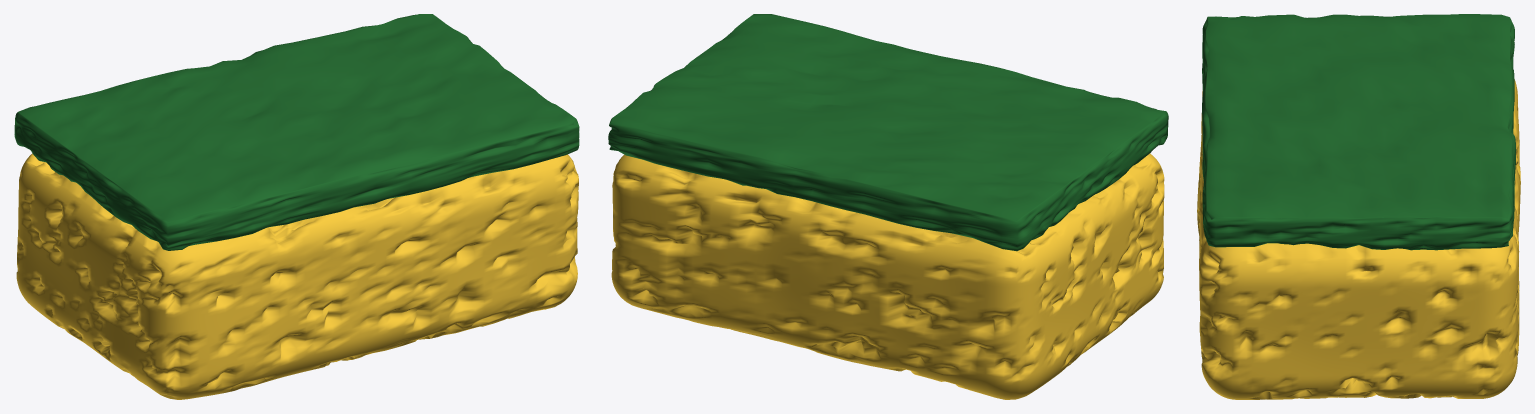
The model's file is sponge.fbx.
The picture shows the model from 3 angles, left to right: view 1: azimuth 30°, elevation 25°; view 2: azimuth 150°, elevation 25°; view 3: azimuth 270°, elevation 25°; orthographic projection.
Visible parts, largest first — view 1: SpongeBody, ScrubPad; view 2: SpongeBody, ScrubPad; view 3: ScrubPad, SpongeBody.
Boxes of the visible parts, bbox=[...] form: SpongeBody: bbox=[16, 153, 578, 399]; ScrubPad: bbox=[14, 14, 579, 250]; SpongeBody: bbox=[611, 153, 1164, 399]; ScrubPad: bbox=[608, 14, 1168, 251]; ScrubPad: bbox=[1202, 14, 1516, 250]; SpongeBody: bbox=[1197, 80, 1520, 399].
Size of the model in its own units: 14.22 by 6.3 by 9.17.
